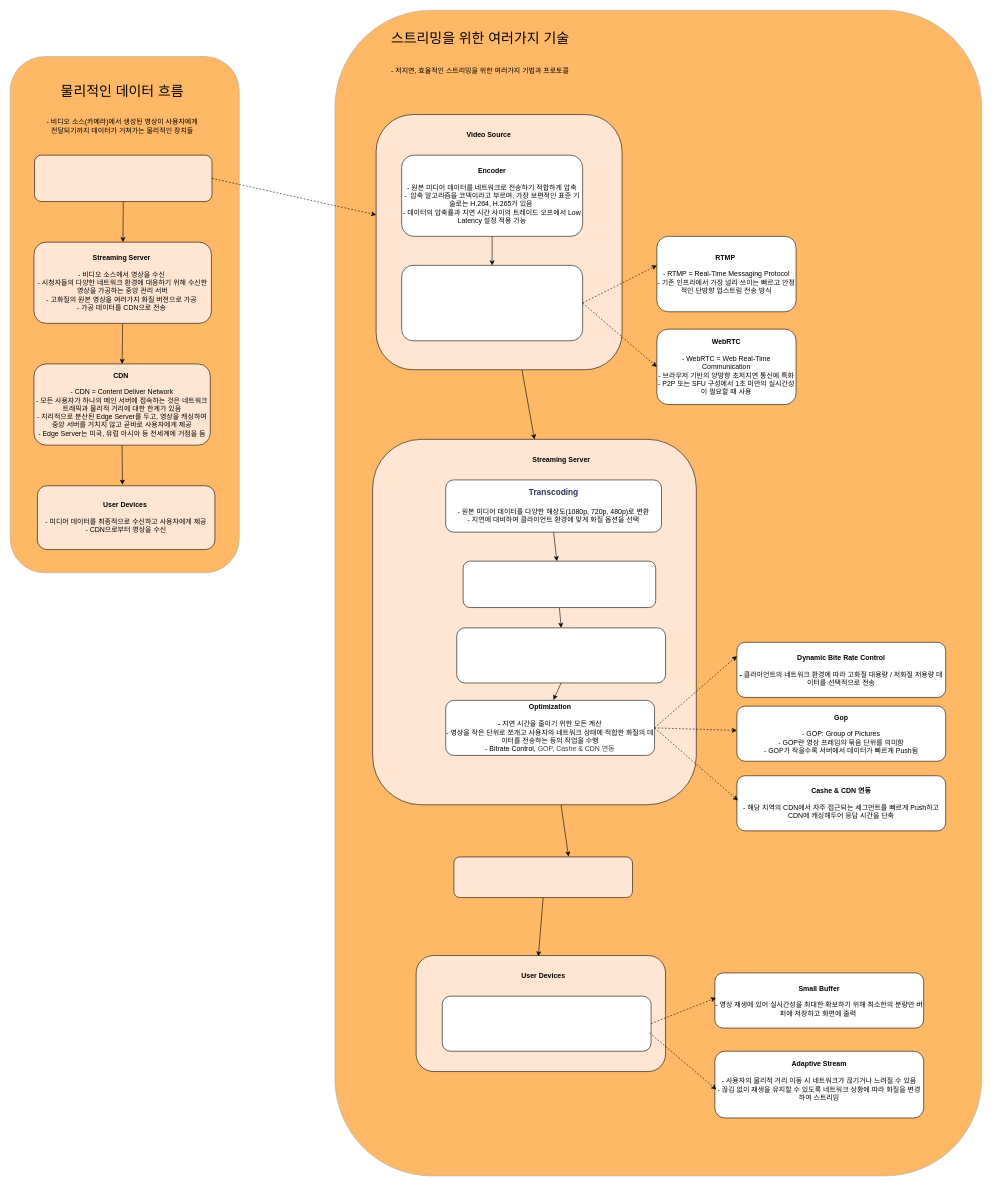
The diagram is 992 pixels wide and 1186 high, and some of its shapes have lost their labels. The shapes that lost their labels are listed below. From the top down, each one's box as (x1, y1, x2, y2) in pixels, then its label:
(34, 155, 212, 202): Video Source -카메라, 영상이 최초로 생성되는 지점 - 웹캠, 스마트폰 카메라, CCTV 등
(401, 265, 583, 341): Ingest 프로토콜 - 인코딩된 데이터를 빠르게 서버로 업스트림 전송하기 위한 프로토콜 - RTMP, WebRTC 두 개의 프로토콜이 있음
(463, 561, 656, 608): Compression - 네트워크 대역폭을 부담을 줄이기 위해 압축
(456, 627, 666, 683): Low Buffer - 지연 시간을 감소하기 위해 서버에서 데이터를 모으는 단위를 최소화하여 CDN으로 전송
(453, 856, 632, 898): CDN
(442, 996, 651, 1051): Playback - 전달받은 미디어 데이터를 최종적으로 화면에 출력하는 것
